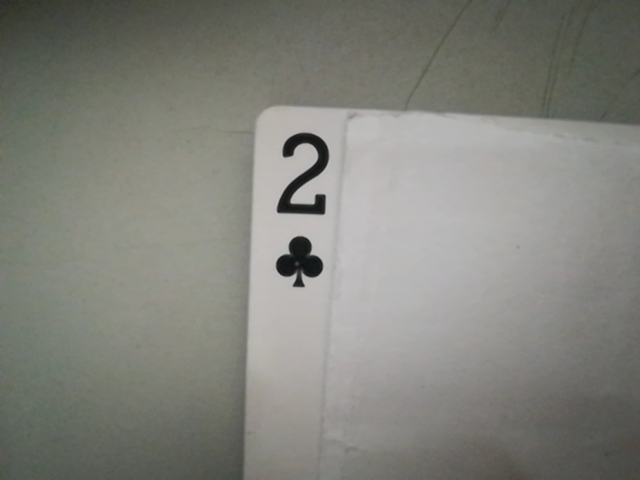mh 2: (263, 122, 347, 291)
